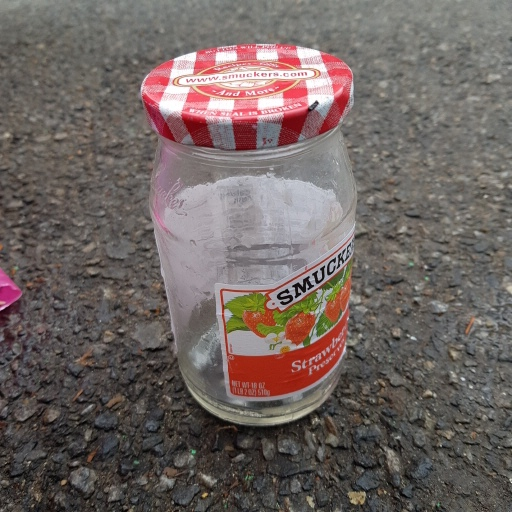Glass_5: (131, 42, 359, 426)
